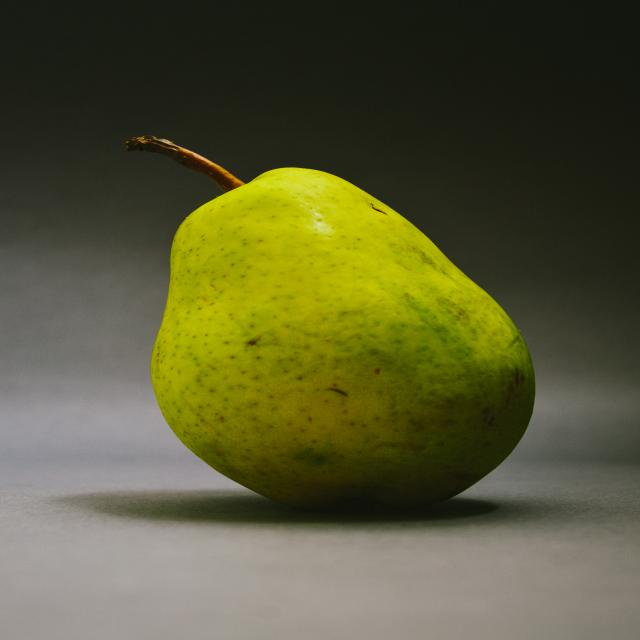paer: (49, 54, 640, 630)
